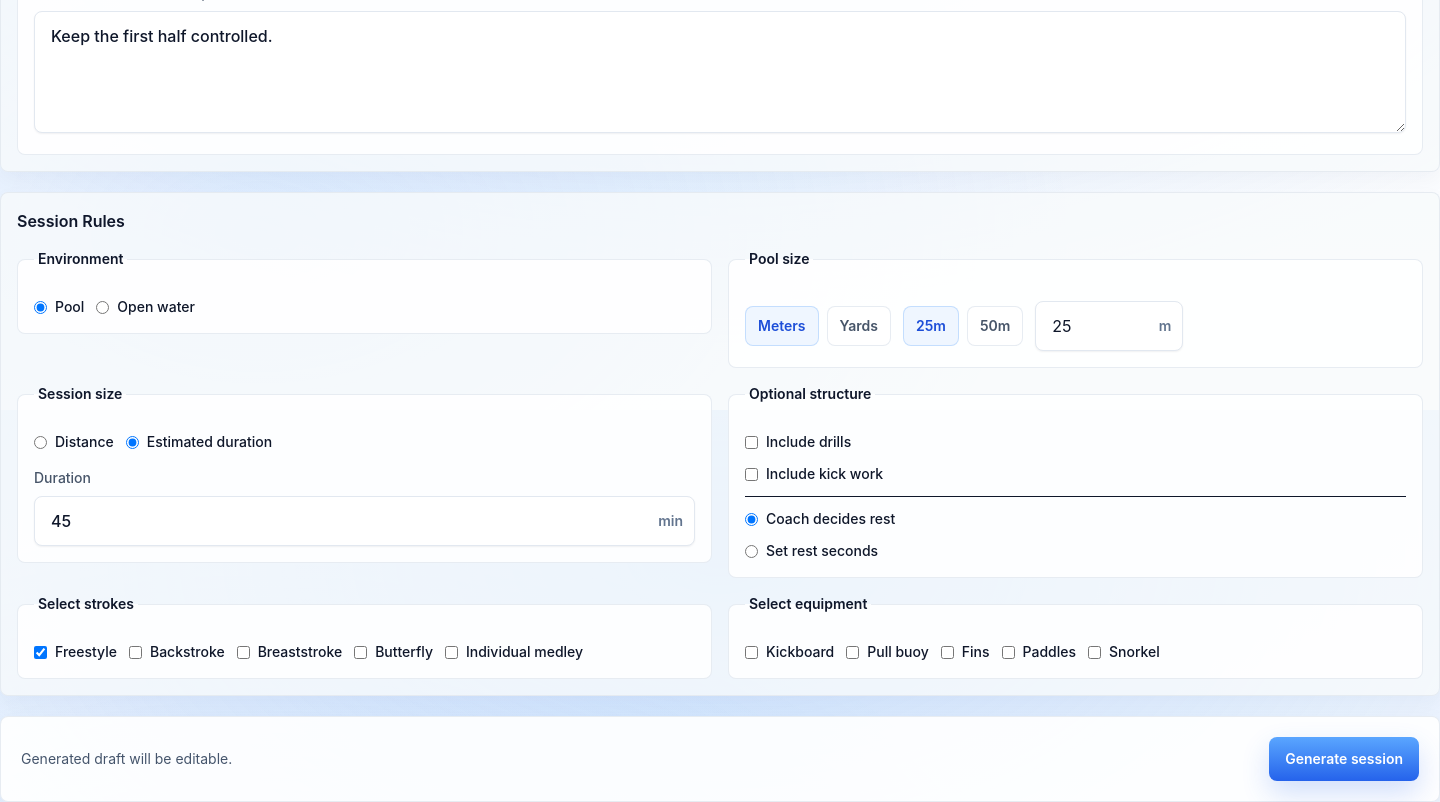
Test: SessionGeneratorPanel › accepts a generated draft into the canonical workout layer
This screenshot has width=1440, height=802.
(page scrolled)
Click the button with test id "session-generator-generate" at [1344, 759], box [1269,737,1419,781]
(page scrolled)
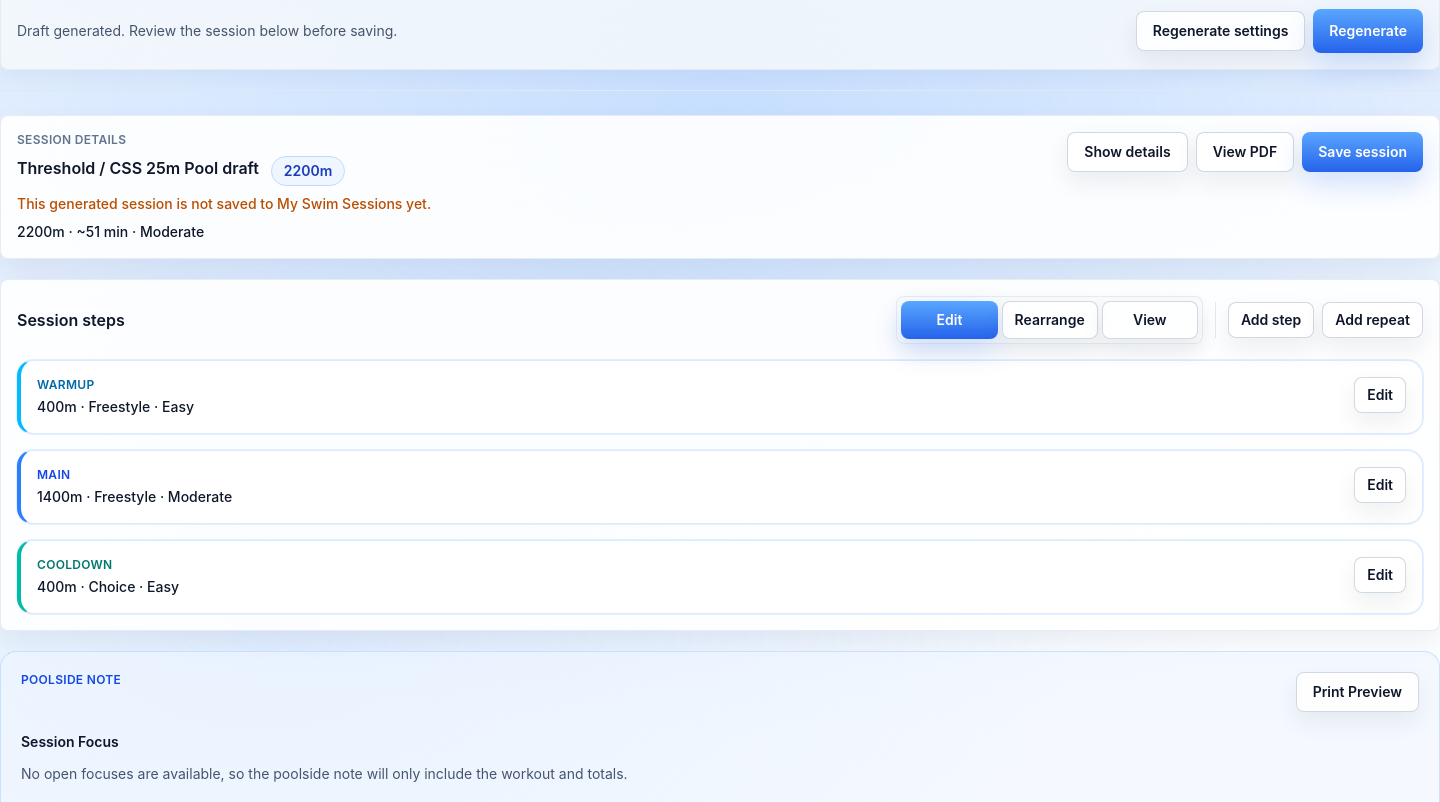
Expected: the text with test id "workout-editor-save-state" reads "This generated session is not saved to My Swim Sessions yet.", [17,195,431,212]
Click the button with test id "workout-editor-metadata-toggle" at [1128, 152], box [1067,132,1188,172]
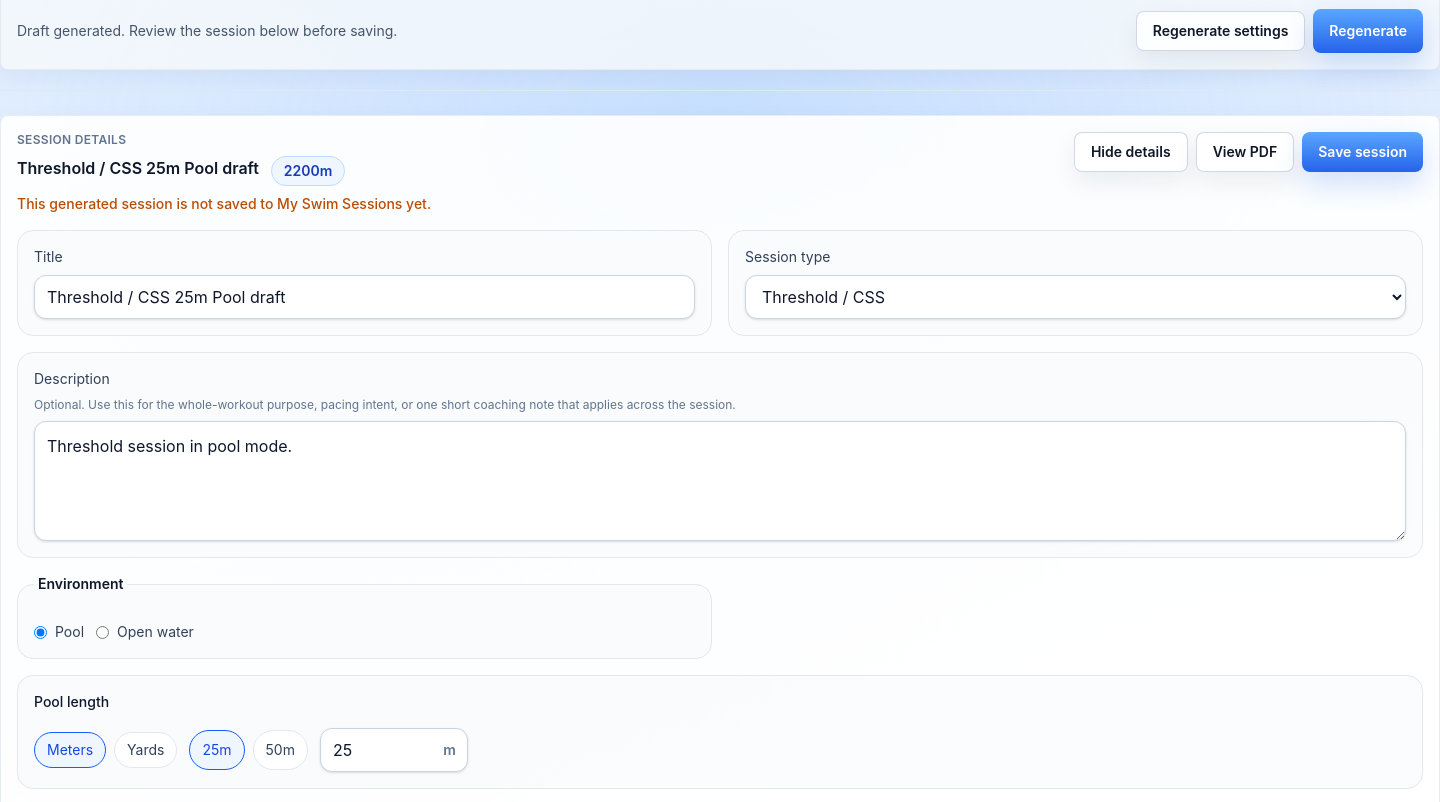
Expected: the button with test id "workout-editor-metadata-toggle" is expanded, [1074,132,1188,172]
Expected: the field with test id "session-draft-title" is shown
Expected: the field with test id "session-draft-title" holds "Threshold / CSS 25m Pool draft"
Replace the text in the field with test id "session-draft-title" with "Accepted threshold workout" at [364, 297], box [34,275,695,319]
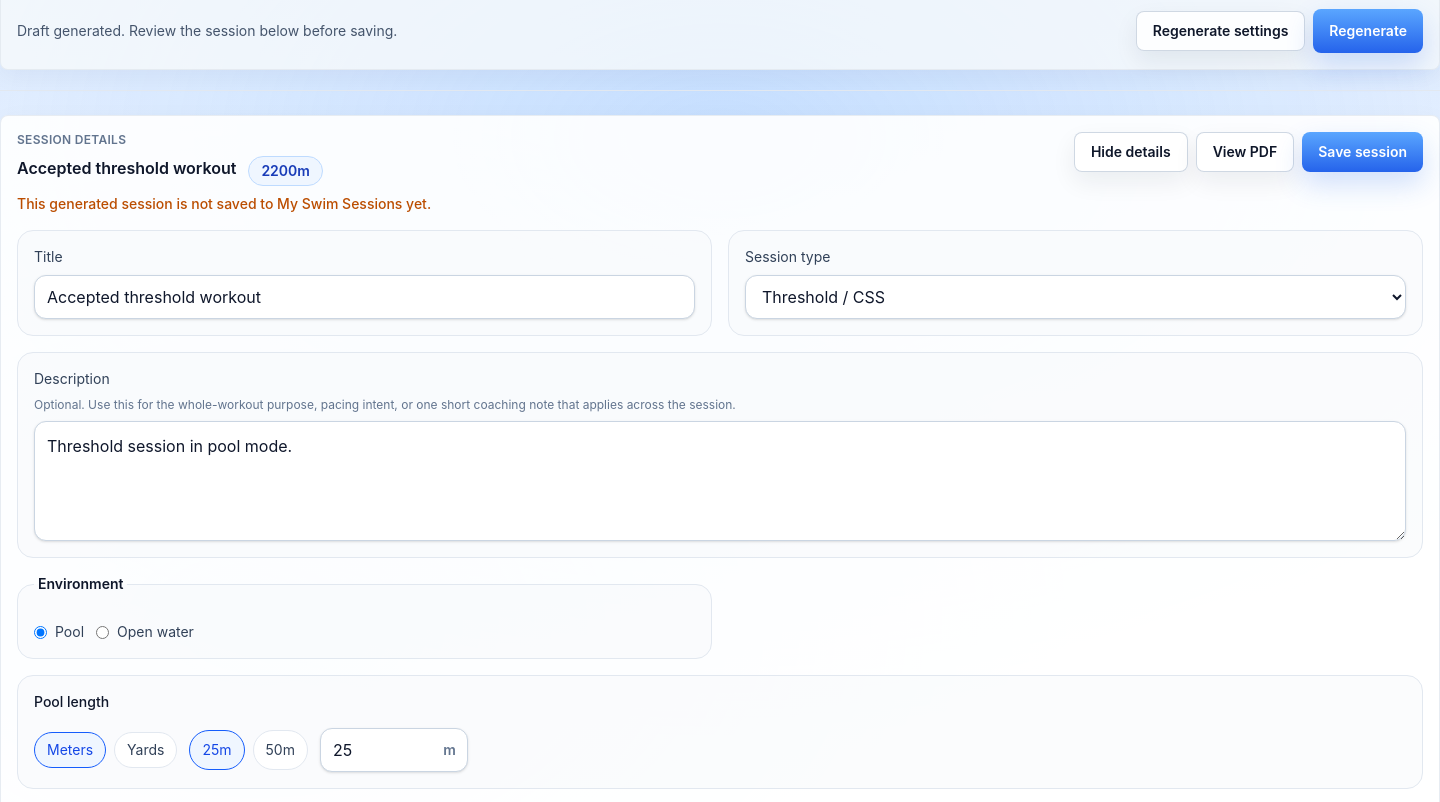
Click the button with test id "session-generator-save" at [1363, 152], box [1302,132,1423,172]
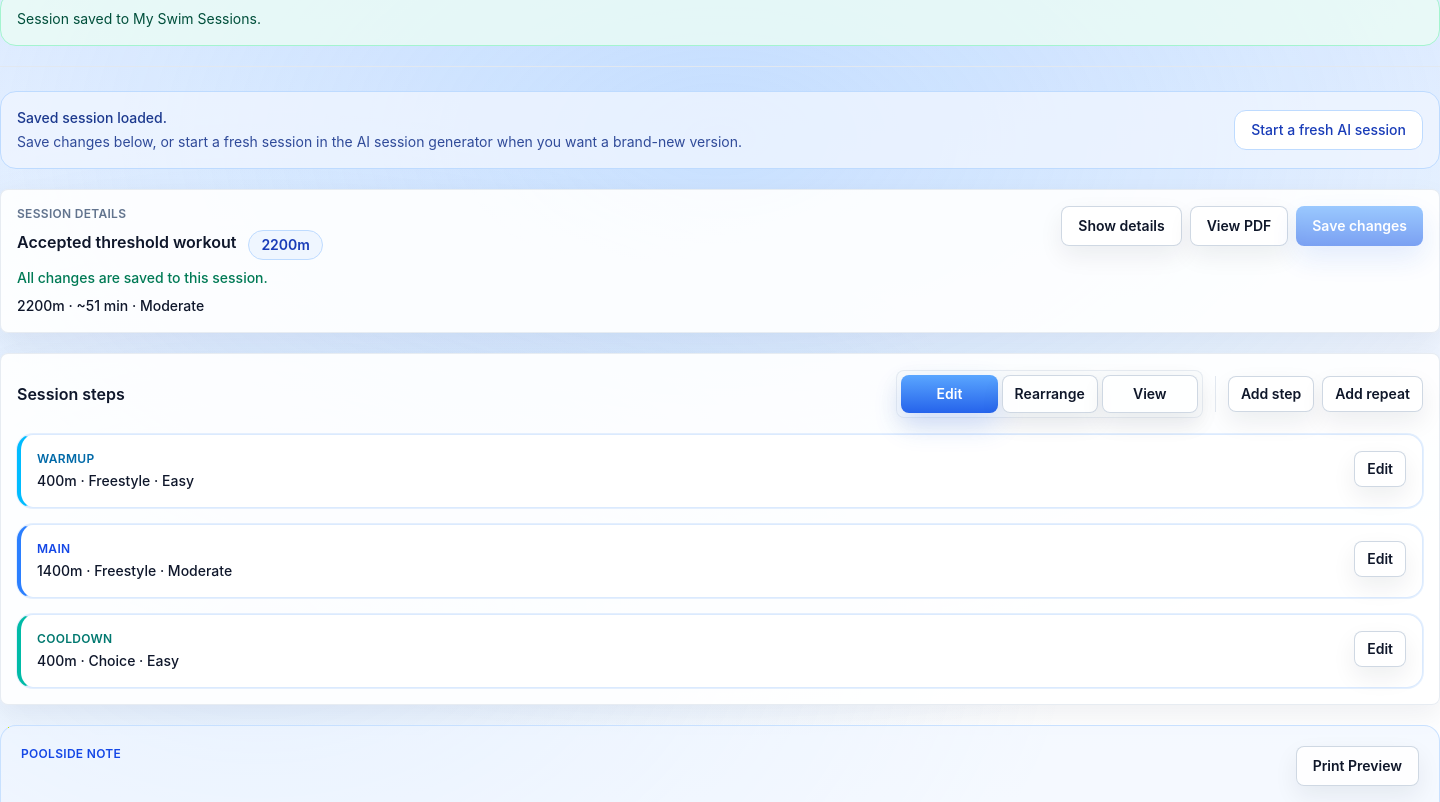
Expected: the text "Session saved to My Swim Sessions." is shown, [17,10,261,27]
Expected: the text "Saved session loaded." is shown, [17,109,167,126]
Expected: the button "Save changes" is shown, [1296,206,1423,246]
Click the button with test id "workout-editor-metadata-toggle" at [1122, 226], box [1061,206,1182,246]
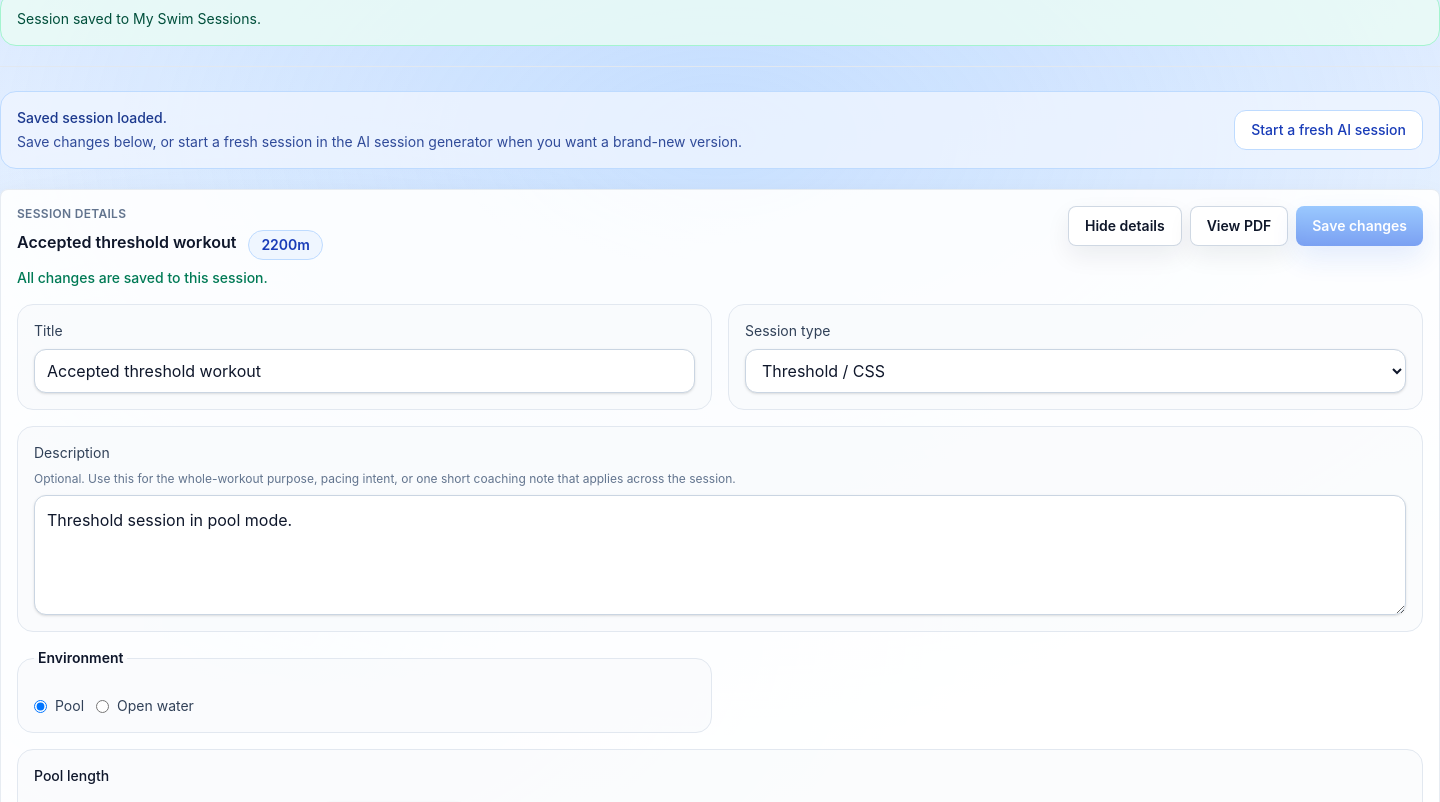
Expected: the button with test id "workout-editor-metadata-toggle" is expanded, [1068,206,1182,246]
Expected: the field with test id "session-draft-title" holds "Accepted threshold workout", [34,349,695,393]
